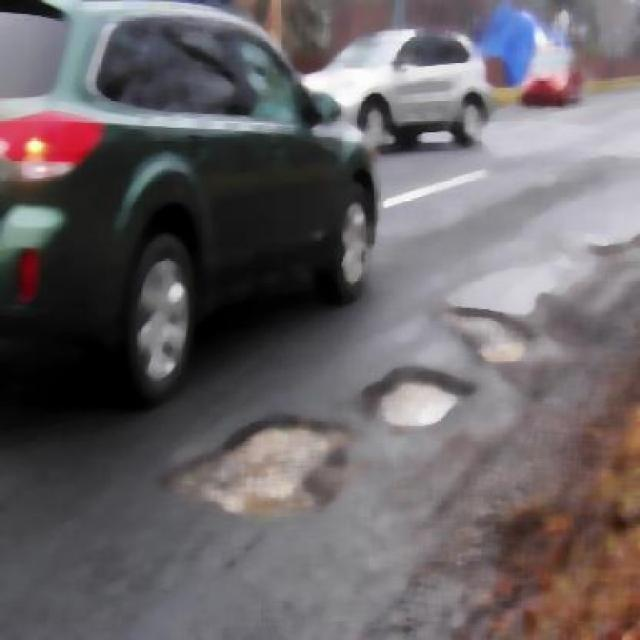Pothole: (173, 397, 335, 552), (437, 253, 560, 384), (362, 353, 484, 442)
